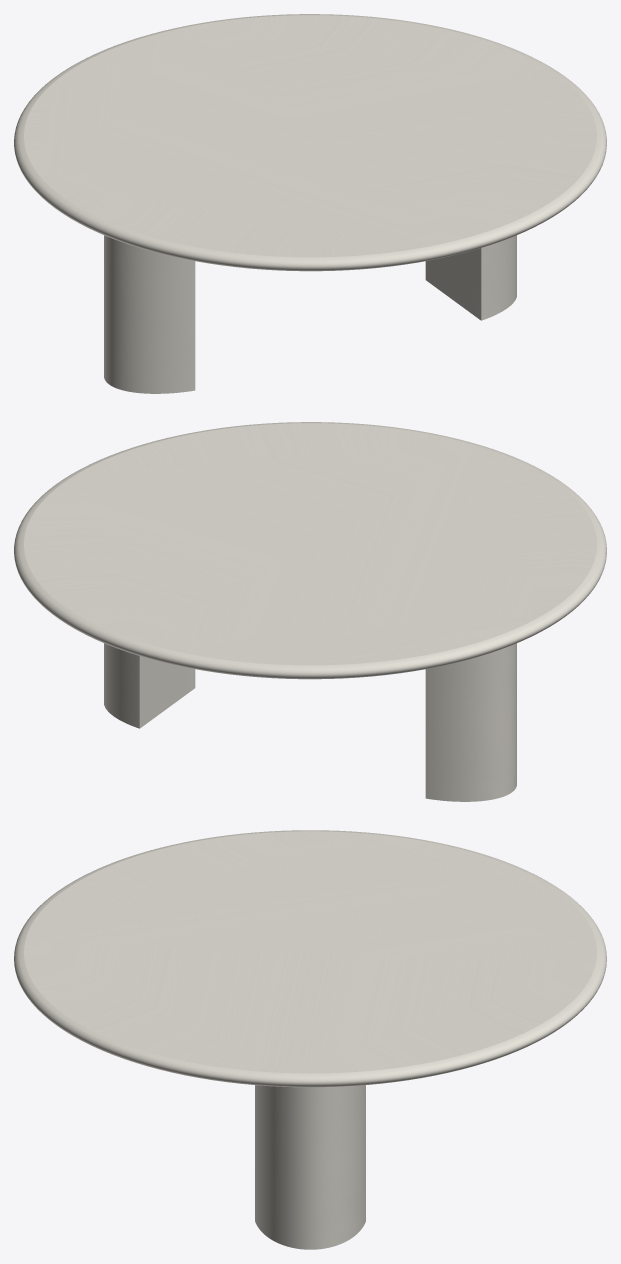
Rendered from pale_round_round_hillside.glb.
3 renders of one model, top to bottom at view 1: azimuth 30°, elevation 25°; view 2: azimuth 150°, elevation 25°; view 3: azimuth 270°, elevation 25°, orthographic.
Parts seen in each view (by area): view 1: round_round, hillside; view 2: round_round, hillside; view 3: round_round, hillside.
Part boxes in pixels (x1=…): round_round: x1=14, y1=14, x2=606, y2=271; hillside: x1=104, y1=235, x2=516, y2=393; round_round: x1=14, y1=422, x2=606, y2=679; hillside: x1=104, y1=643, x2=516, y2=801; round_round: x1=14, y1=830, x2=606, y2=1087; hillside: x1=255, y1=1085, x2=365, y2=1249.
Bounding box in the file's own units: 6.75 × 2.5 × 6.75.
Materials: 1 (1 with a texture image).
